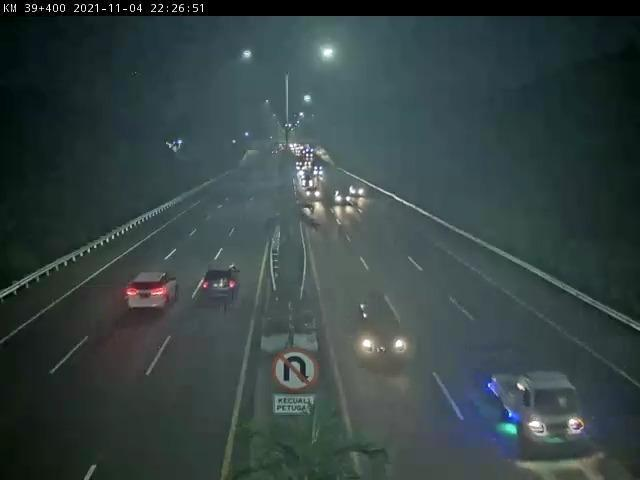car: (354, 299, 406, 359), (126, 274, 180, 313), (202, 264, 242, 299)
truck: (488, 368, 582, 451)
